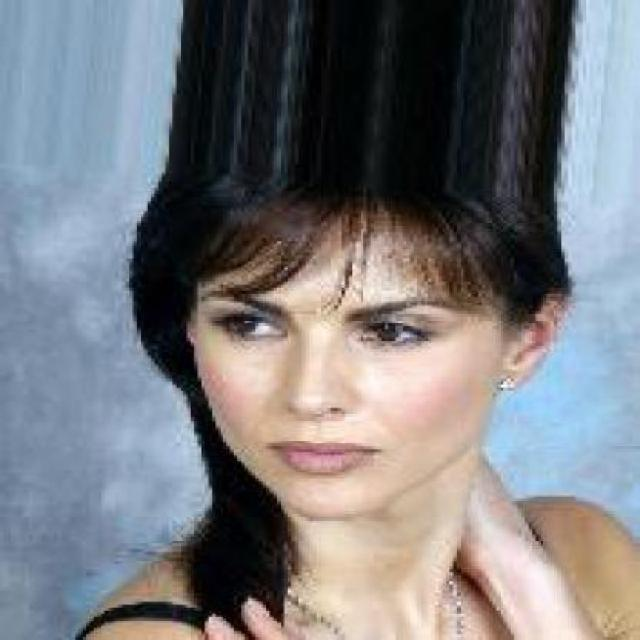closed-mouth: (268, 430, 397, 481)
